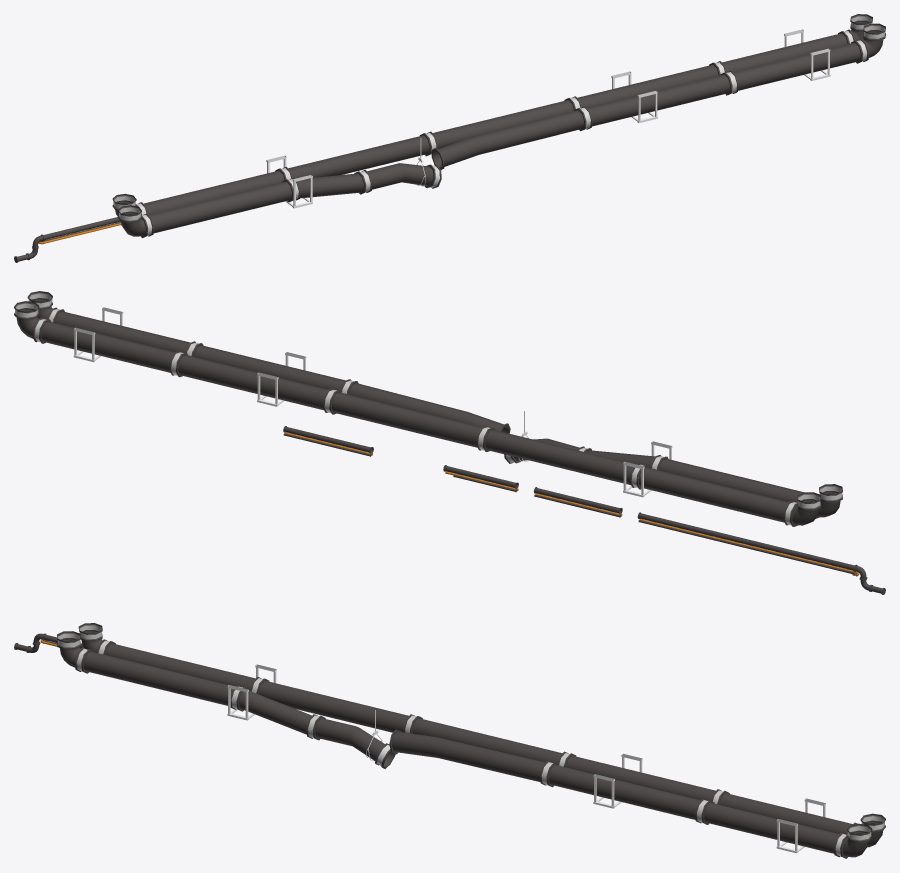
File: SM_H_Building_Tide_Stairs_07_ATLAS.fbx
3 renders of one model, top to bottom at view 1: azimuth 30°, elevation 25°; view 2: azimuth 150°, elevation 25°; view 3: azimuth 330°, elevation 25°, orthographic. The views are drawn at different scales.
Visible parts, largest first — view 1: SM_H_Building_Tide_Stairs_07_ATLAS; view 2: SM_H_Building_Tide_Stairs_07_ATLAS; view 3: SM_H_Building_Tide_Stairs_07_ATLAS.
Boxes of the visible parts, left/top/right/bottom form: SM_H_Building_Tide_Stairs_07_ATLAS: left=14, top=14, right=885, bottom=262; SM_H_Building_Tide_Stairs_07_ATLAS: left=14, top=291, right=885, bottom=594; SM_H_Building_Tide_Stairs_07_ATLAS: left=14, top=623, right=885, bottom=858.
Size of the model in its own units: 10934 by 936 by 726.
